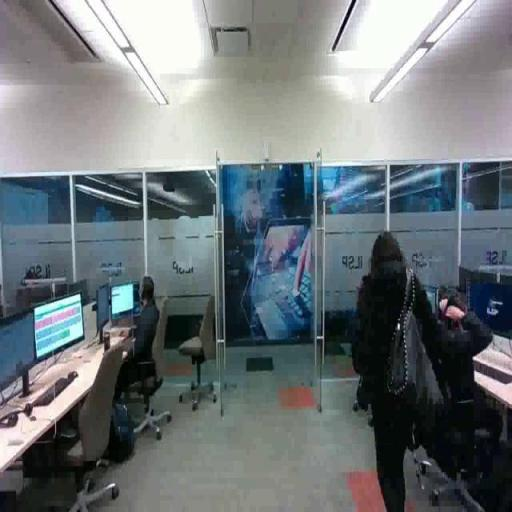person: (355, 228, 443, 512)
